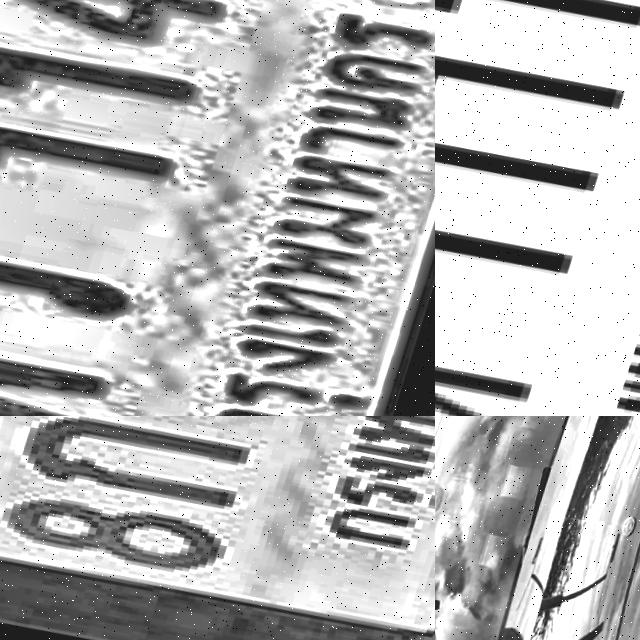license-plate: (0, 0, 435, 416), (0, 416, 435, 640), (435, 0, 640, 416)
